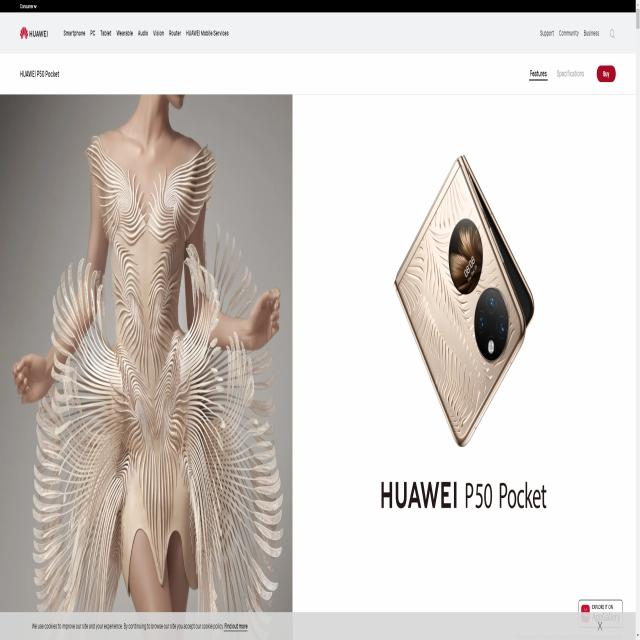menu-bar: (534, 19, 620, 44)
tab-bar: (14, 18, 236, 48)
